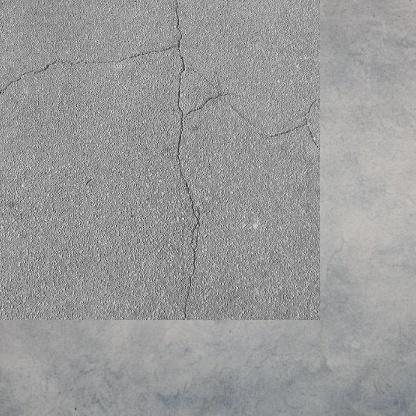Cracks: (0, 0, 296, 296)
